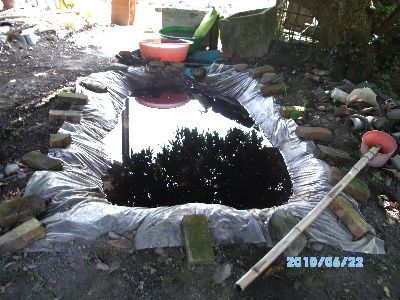bowl: (158, 26, 204, 53), (139, 39, 193, 61)
box: (217, 7, 279, 56)
bucket: (360, 129, 397, 168)
plastic_bag: (21, 68, 386, 254)
